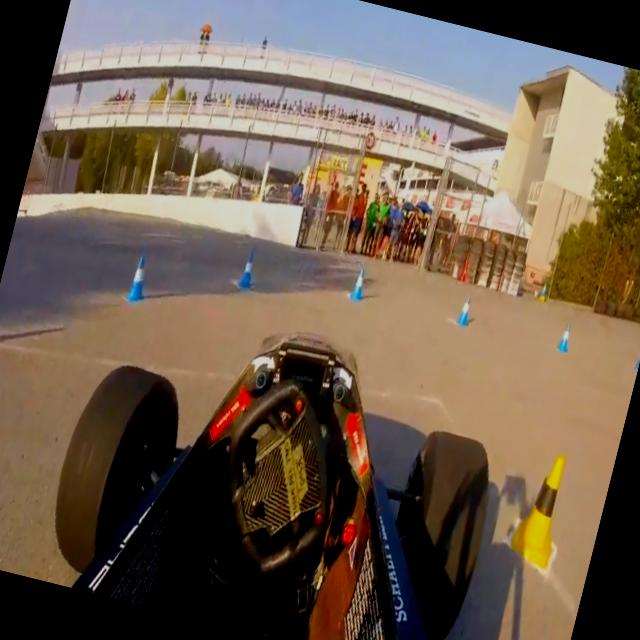blue_cone: (120, 248, 154, 305), (237, 246, 260, 291), (346, 267, 368, 303), (554, 320, 574, 354), (456, 295, 474, 327), (0, 285, 5, 355), (632, 345, 640, 371)
yellow_cone: (504, 444, 580, 572)
